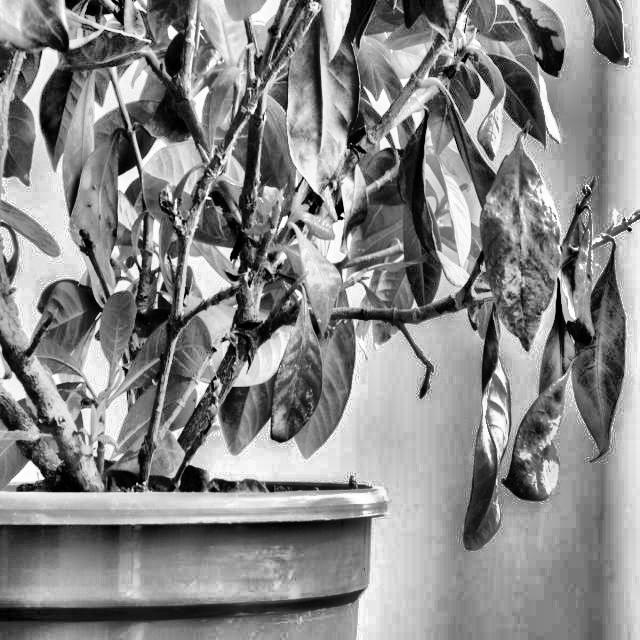plants: (47, 11, 639, 582), (486, 134, 557, 357), (456, 287, 509, 552), (286, 14, 360, 200), (260, 272, 330, 443)
